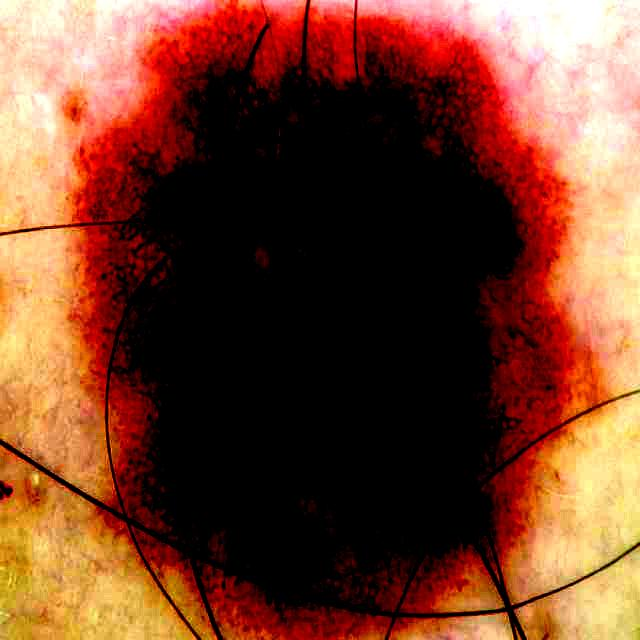NV: (107, 3, 569, 637)
